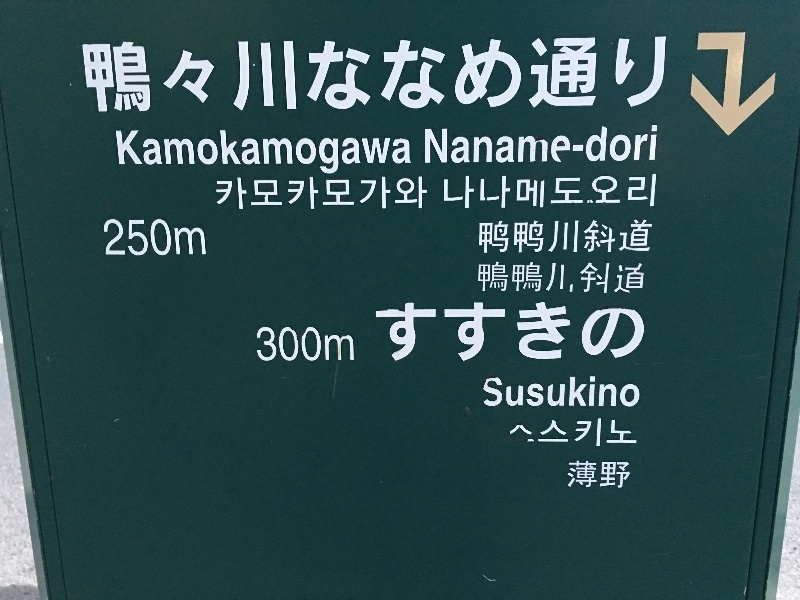text: (97, 38, 112, 112), (113, 38, 128, 112), (129, 38, 144, 112), (145, 38, 160, 112), (161, 38, 176, 112), (177, 38, 192, 112), (193, 38, 208, 112), (209, 38, 224, 112), (225, 38, 240, 112), (241, 38, 256, 112), (257, 38, 272, 112), (273, 38, 288, 112), (289, 38, 304, 112), (305, 38, 320, 112), (321, 38, 336, 112), (337, 38, 352, 112), (353, 38, 368, 112), (369, 38, 384, 112), (385, 38, 400, 112), (401, 38, 416, 112), (417, 38, 432, 112), (433, 38, 448, 112), (449, 38, 464, 112), (465, 38, 480, 112), (481, 38, 496, 112), (497, 38, 512, 112), (513, 38, 528, 112), (529, 38, 544, 112), (545, 38, 560, 112), (561, 38, 576, 112), (577, 38, 592, 112), (593, 38, 608, 112), (609, 38, 624, 112), (625, 38, 640, 112), (641, 38, 656, 112), (82, 38, 96, 112), (385, 296, 400, 362), (401, 296, 416, 362), (417, 296, 432, 362), (433, 296, 448, 362), (449, 296, 464, 362), (465, 296, 480, 362), (481, 296, 496, 362), (497, 296, 512, 362), (513, 296, 528, 362), (529, 296, 544, 362), (545, 296, 560, 362), (561, 296, 576, 362), (577, 296, 592, 362), (593, 296, 608, 362), (609, 296, 624, 362), (625, 296, 640, 362), (657, 38, 667, 112), (129, 131, 144, 178), (145, 131, 160, 178), (161, 131, 176, 178), (177, 131, 192, 178), (193, 131, 208, 178), (209, 131, 224, 178), (225, 131, 240, 178), (241, 131, 256, 178), (257, 131, 272, 178), (273, 131, 288, 178), (289, 131, 304, 178), (305, 131, 320, 178), (321, 131, 336, 178), (337, 131, 352, 178), (353, 131, 368, 178), (369, 131, 384, 178), (385, 131, 400, 178), (433, 125, 448, 164), (449, 125, 464, 164), (465, 125, 480, 164), (481, 125, 496, 164), (497, 125, 512, 164), (513, 125, 528, 164), (529, 125, 544, 164), (545, 125, 560, 164), (561, 125, 576, 164), (577, 125, 592, 164), (593, 125, 608, 164), (609, 125, 624, 164), (625, 125, 640, 164), (641, 125, 656, 164), (116, 131, 128, 178), (113, 219, 128, 256), (129, 219, 144, 256), (145, 219, 160, 256), (161, 219, 176, 256), (177, 219, 192, 256), (449, 174, 464, 210), (465, 174, 480, 210), (481, 174, 496, 210), (497, 174, 512, 210), (513, 174, 528, 210), (529, 174, 544, 210), (545, 174, 560, 210), (561, 174, 576, 210), (577, 174, 592, 210), (593, 174, 608, 210), (609, 174, 624, 210), (625, 174, 640, 210), (641, 174, 656, 210), (257, 327, 272, 362), (273, 327, 288, 362), (289, 327, 304, 362), (305, 327, 320, 362), (321, 327, 336, 362), (337, 327, 352, 362), (481, 220, 496, 255), (497, 220, 512, 255), (513, 220, 528, 255), (529, 220, 544, 255), (545, 220, 560, 255), (561, 220, 576, 255), (577, 220, 592, 255), (593, 220, 608, 255), (609, 220, 624, 255), (625, 220, 640, 255), (193, 219, 207, 256), (625, 376, 641, 408), (225, 177, 240, 210), (241, 177, 256, 210), (257, 177, 272, 210), (273, 177, 288, 210), (289, 177, 304, 210), (305, 177, 320, 210), (321, 177, 336, 210), (337, 177, 352, 210), (353, 177, 368, 210), (369, 177, 384, 210), (385, 177, 400, 210), (401, 177, 416, 210), (545, 415, 560, 448), (561, 415, 576, 448), (577, 415, 592, 448), (593, 415, 608, 448), (609, 415, 624, 448), (481, 262, 496, 295), (497, 262, 512, 295), (513, 262, 528, 295), (529, 262, 544, 295), (545, 262, 560, 295), (561, 262, 576, 295), (577, 262, 592, 295), (593, 262, 608, 295), (609, 262, 624, 295), (625, 262, 640, 295), (497, 376, 512, 408), (513, 376, 528, 408), (529, 376, 544, 408), (545, 376, 560, 408), (561, 376, 576, 408), (577, 376, 592, 408), (593, 376, 608, 408), (609, 376, 624, 408), (401, 131, 411, 178), (377, 296, 384, 362), (577, 461, 592, 489), (593, 461, 608, 489), (609, 461, 624, 489), (625, 415, 637, 448), (641, 220, 652, 255), (484, 376, 496, 408), (417, 177, 427, 210), (104, 219, 112, 256), (513, 423, 528, 442), (425, 125, 432, 164), (216, 177, 224, 210), (641, 296, 645, 362), (568, 461, 576, 489), (625, 461, 631, 489), (444, 174, 448, 210), (540, 415, 544, 448), (641, 262, 645, 295), (529, 423, 534, 442), (509, 423, 512, 442), (657, 125, 658, 164), (353, 327, 354, 362), (479, 262, 480, 295)
